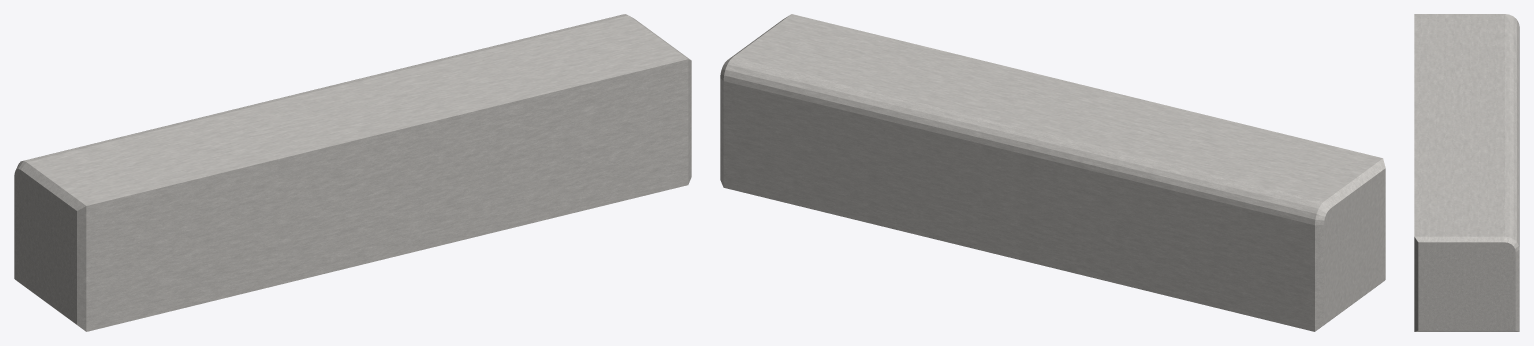
The model's file is Stone1_Base_Modular.fbx.
3 renders of one model, left to right at view 1: azimuth 30°, elevation 25°; view 2: azimuth 150°, elevation 25°; view 3: azimuth 270°, elevation 25°, orthographic. The views are drawn at different scales.
Parts seen in each view (by area): view 1: Stone_1_Base; view 2: Stone_1_Base; view 3: Stone_1_Base.
Part boxes in pixels (x1,y1,x2,y2): Stone_1_Base: (14, 14, 691, 331); Stone_1_Base: (720, 14, 1385, 331); Stone_1_Base: (1414, 14, 1519, 331).
Bounding box in the file's own units: 102 × 20 × 20.
Materials: 1 (1 with a texture image).
